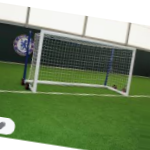goals: (24, 28, 138, 97)
